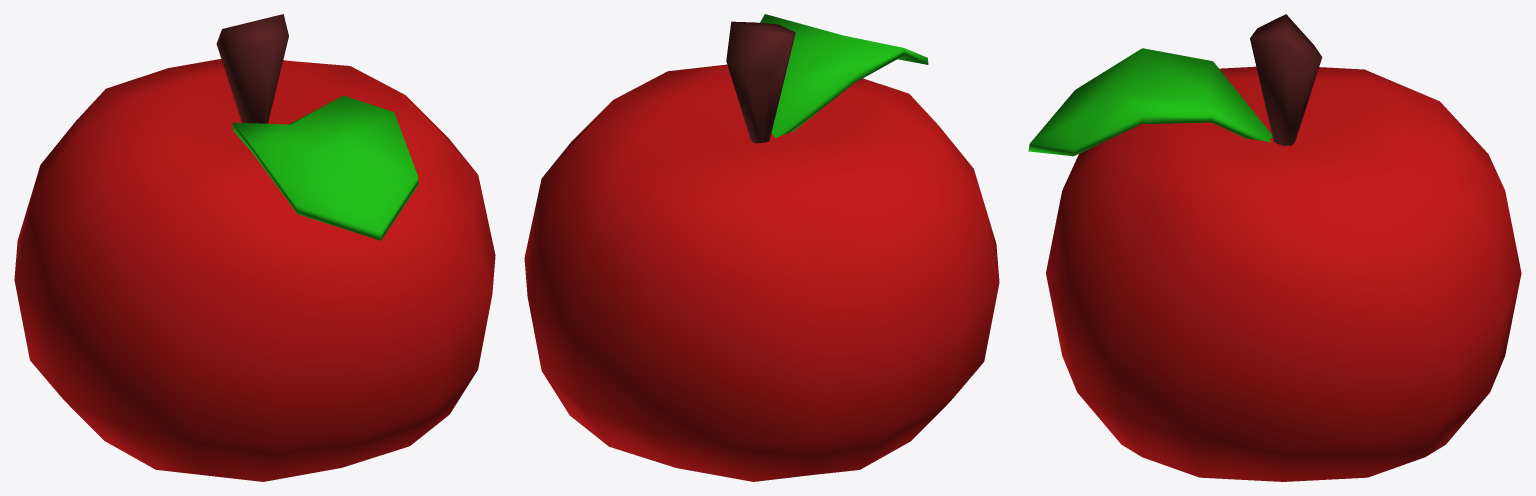
File: apple.fbx
3 views of the same model, side by side, from view 1: azimuth 30°, elevation 25°; view 2: azimuth 150°, elevation 25°; view 3: azimuth 270°, elevation 25° (orthographic).
Parts seen in each view (by area): view 1: apple; view 2: apple; view 3: apple.
Part boxes in pixels (x1,y1,x2,y2): apple: [14, 14, 495, 481]; apple: [524, 14, 999, 481]; apple: [1028, 14, 1521, 481].
Bounding box in the file's own units: 70.42 × 66.82 × 73.
1 material, 1 textured.
